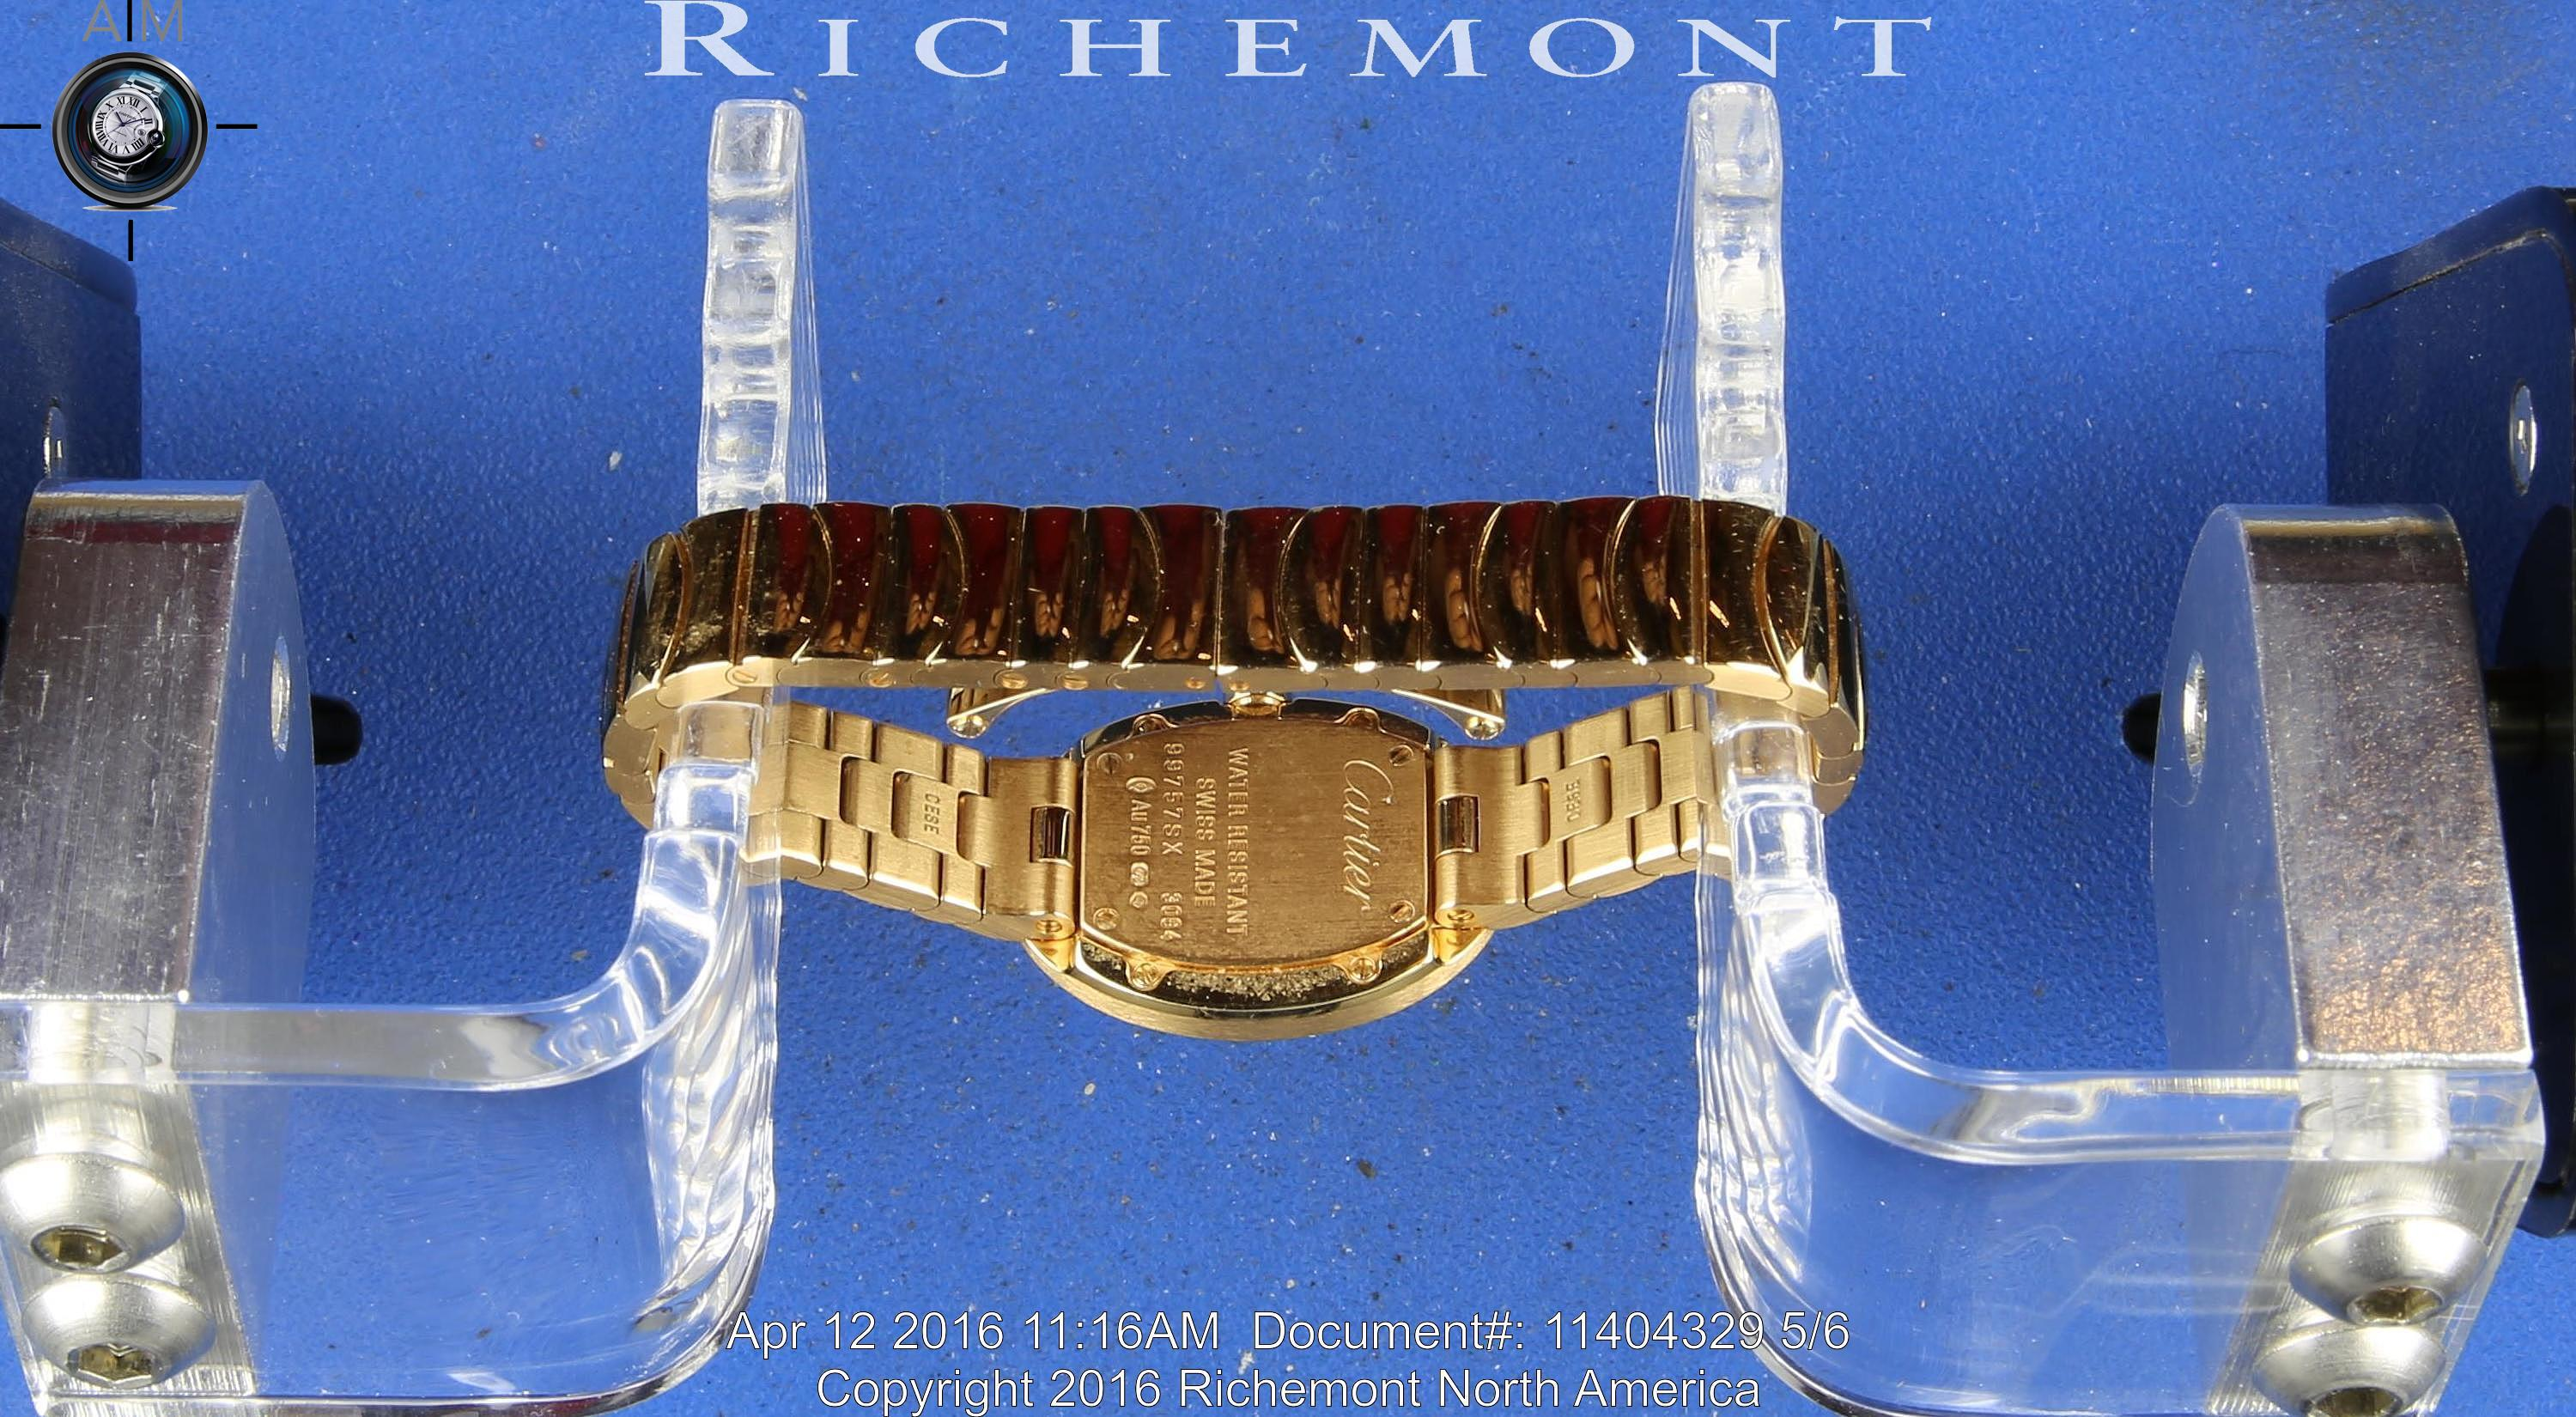Watch Back Case: (1013, 691, 1512, 1047)
